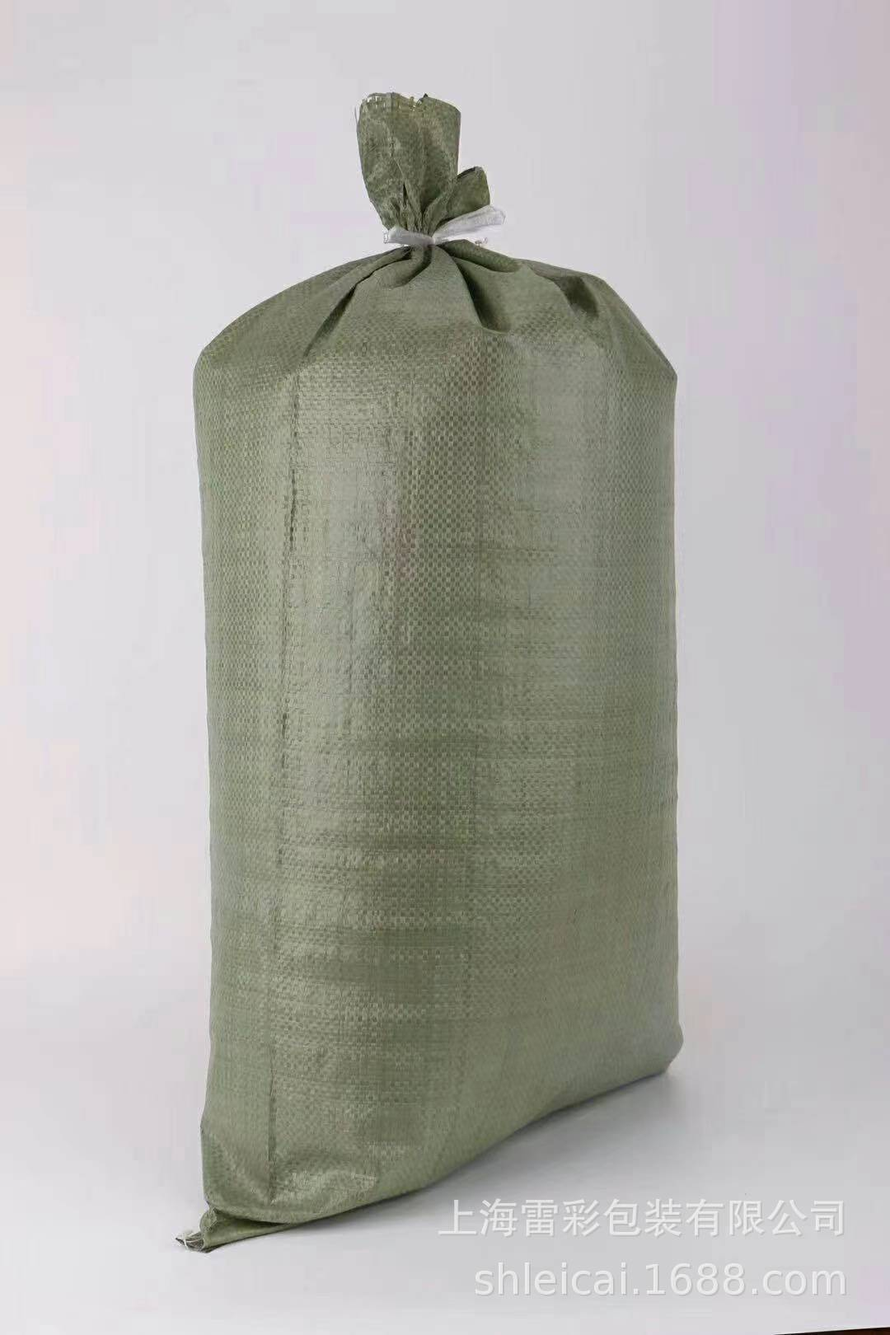塑料袋: (182, 94, 682, 1251)
